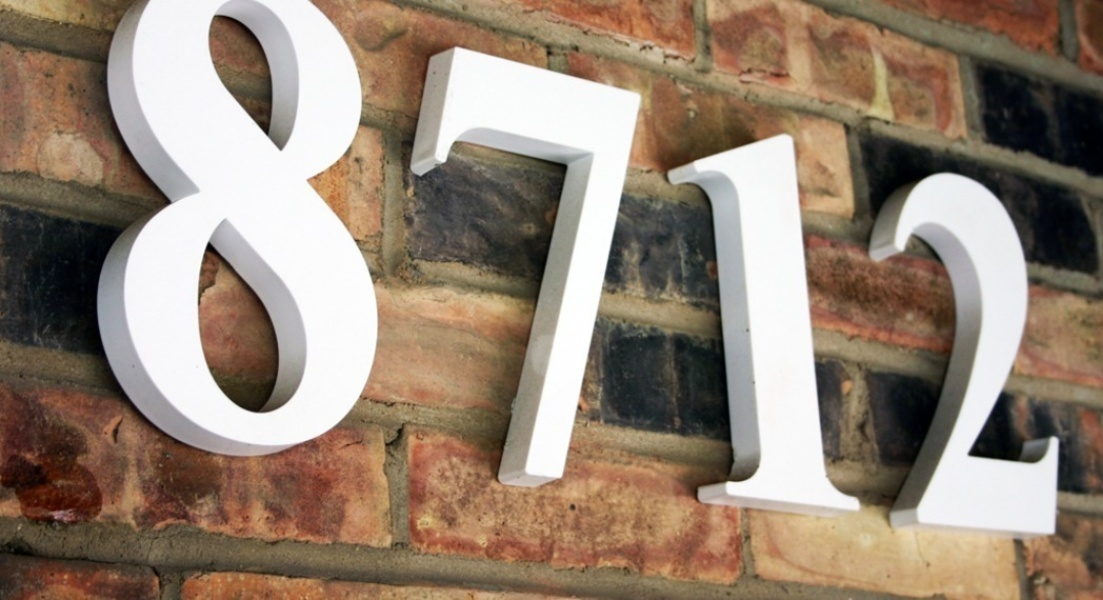text: (113, 1, 128, 548), (129, 1, 144, 548), (145, 1, 160, 548), (161, 1, 176, 548), (177, 1, 192, 548), (193, 1, 208, 548), (209, 1, 224, 548), (225, 1, 240, 548), (241, 1, 256, 548), (257, 1, 272, 548), (273, 1, 288, 548), (289, 1, 304, 548), (305, 1, 320, 548), (321, 1, 336, 548), (337, 1, 352, 548), (353, 1, 368, 548), (369, 1, 384, 548), (385, 1, 400, 548), (401, 1, 416, 548), (417, 1, 432, 548), (433, 1, 448, 548), (449, 1, 464, 548), (465, 1, 480, 548), (481, 1, 496, 548), (497, 1, 512, 548), (513, 1, 528, 548), (529, 1, 544, 548), (545, 1, 560, 548), (561, 1, 576, 548), (577, 1, 592, 548), (593, 1, 608, 548), (609, 1, 624, 548), (625, 1, 640, 548), (641, 1, 656, 548), (657, 1, 672, 548), (673, 1, 688, 548), (689, 1, 704, 548), (705, 1, 720, 548), (721, 1, 736, 548), (737, 1, 752, 548), (753, 1, 768, 548), (769, 1, 784, 548), (785, 1, 800, 548), (801, 1, 816, 548), (817, 1, 832, 548), (833, 1, 848, 548), (849, 1, 864, 548), (865, 1, 880, 548), (881, 1, 896, 548), (897, 1, 912, 548), (913, 1, 928, 548), (929, 1, 944, 548), (945, 1, 960, 548), (961, 1, 976, 548), (977, 1, 992, 548), (993, 1, 1008, 548), (1009, 1, 1024, 548), (1025, 1, 1040, 548), (1041, 1, 1056, 548), (1057, 1, 1072, 548), (1073, 1, 1085, 548), (108, 1, 112, 548)
